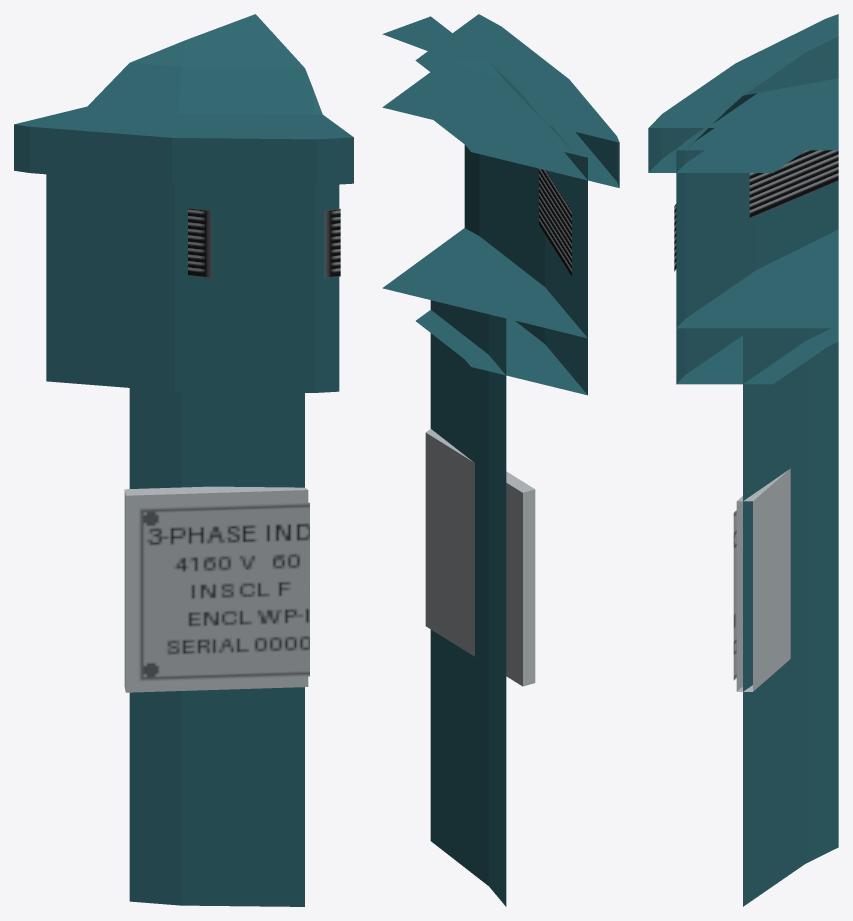
The model's file is cell_59.obj.
The picture shows the model from 3 angles, left to right: view 1: azimuth 30°, elevation 25°; view 2: azimuth 150°, elevation 25°; view 3: azimuth 270°, elevation 25°; orthographic projection. The views are drawn at different scales.
Bounding box in the file's own units: 0.2182 × 0.7394 × 0.1537.
